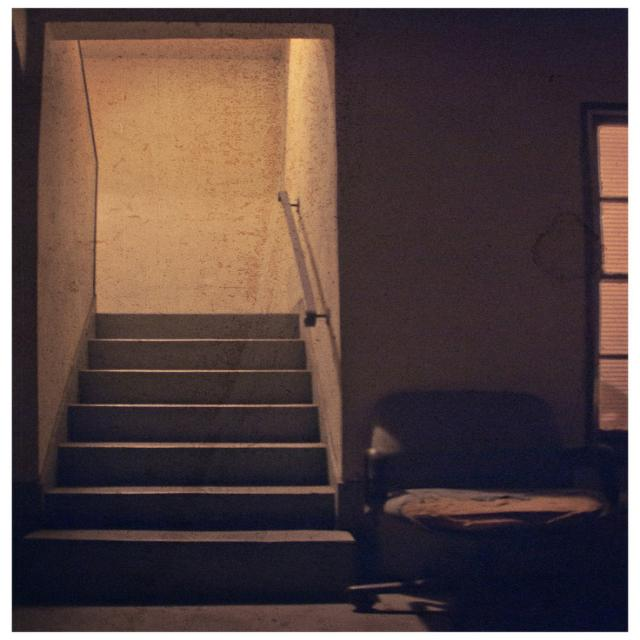chair: (344, 358, 639, 640)
